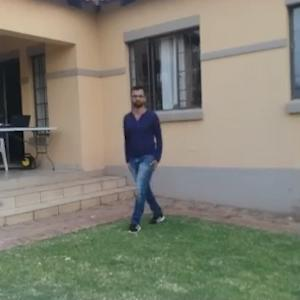follow: (126, 89, 172, 226)
